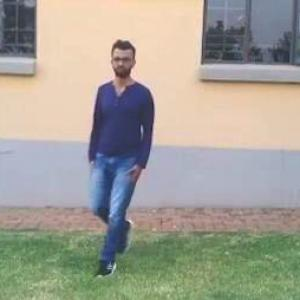follow: (88, 41, 154, 261)
